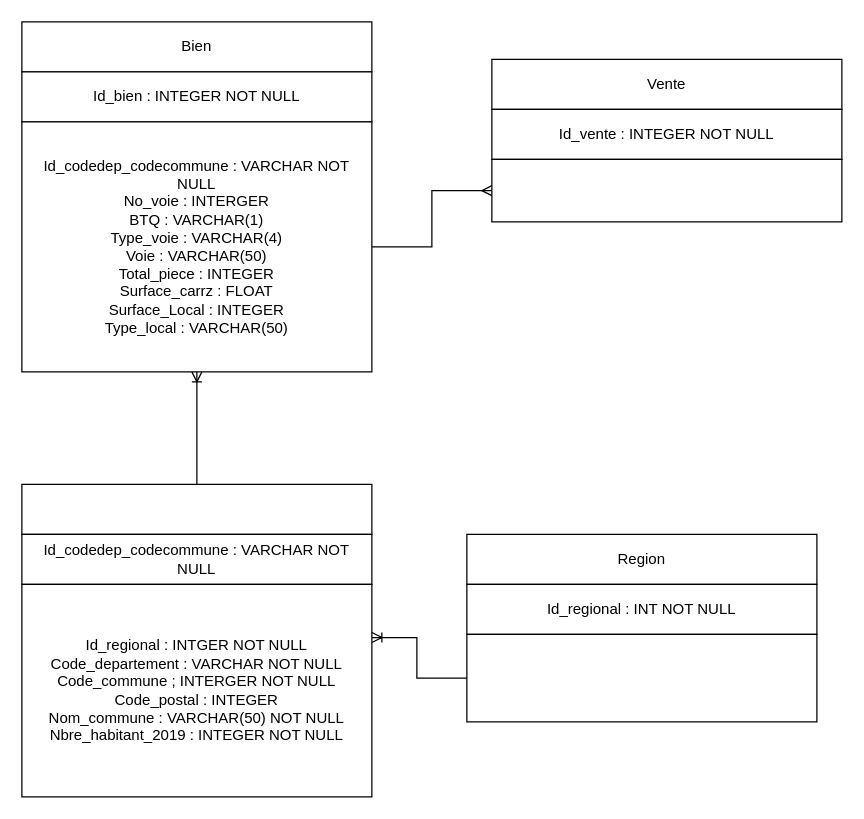
Some shapes in this 864 by 819 pixel diagram are drawn without their labels. The shapes that lost their labels are listed below. From the top down, each one's centre as x and y in pixels, then its label:
(x=666, y=190): Id_bien : INTEGER NOT NULL Date : Date NOT NULL Valeur : INTEGER
(x=196, y=508): Commune
(x=641, y=677): Nom_region : VARCHAR(50) NOT NULL Nom_regroup : VARCHAR(50) NOT NULL
